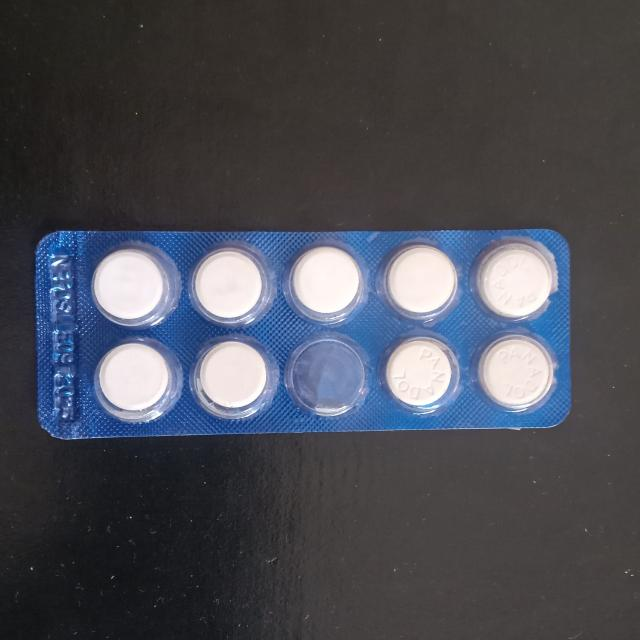defect: (284, 332, 376, 420)
